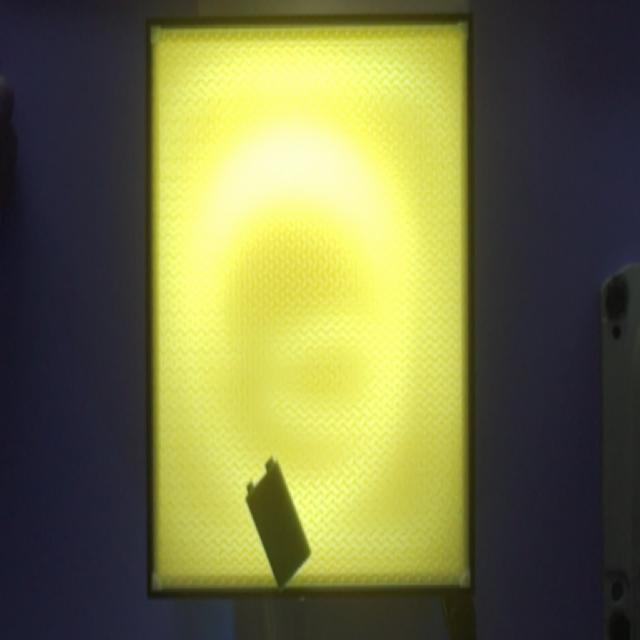bateria: (245, 457, 312, 592)
mesa: (146, 13, 474, 600)
